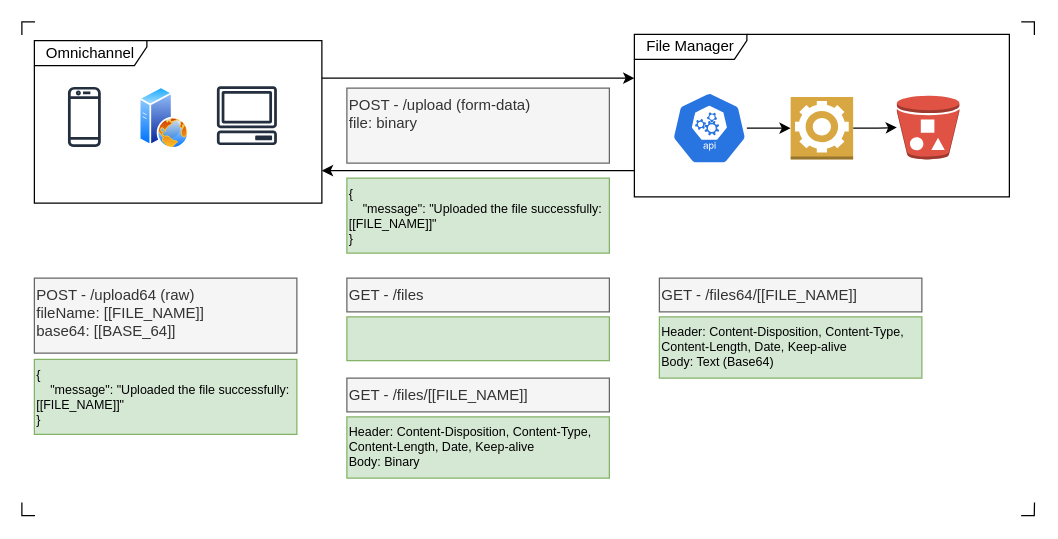
The diagram is 1058 pixels wide and 539 high, and some of its shapes have lost their labels. The shapes that lost their labels are listed below. From the top down, each one's centre as x and y in pixels, then its label:
(x=84, y=116): Mobile
(x=164, y=117): Web
(x=246, y=115): API
(x=927, y=126): /uploads/
(x=477, y=338): [{"name": [[FILE_NAME]],"url": [[URL]]}]
